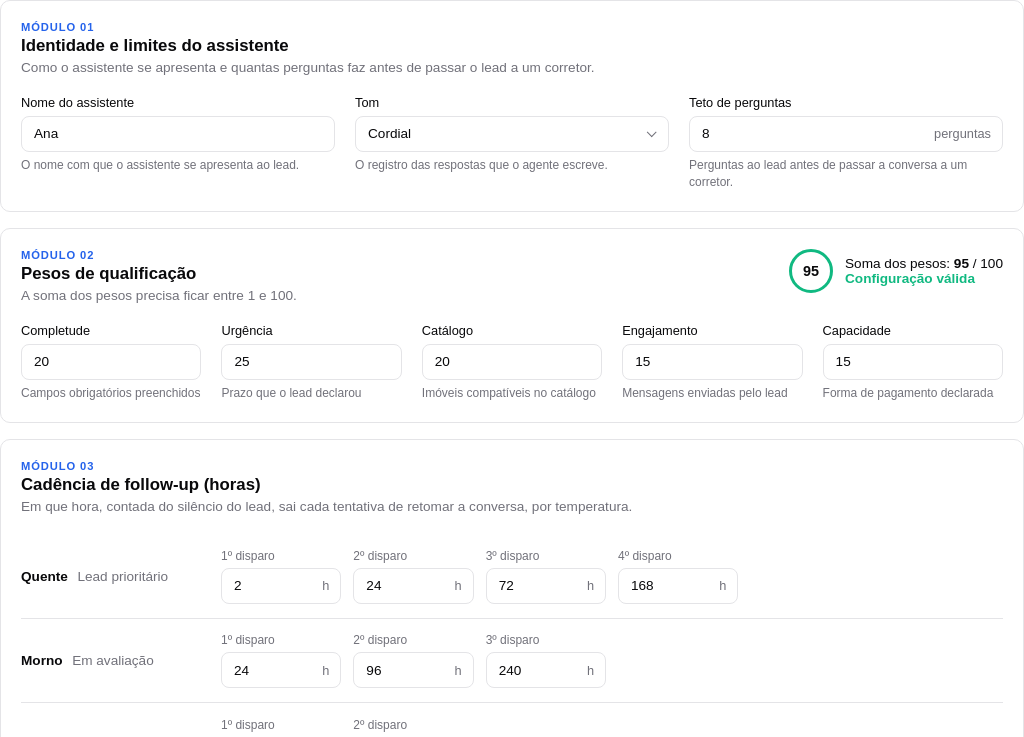
it: FormularioDeConfiguracao › a soma dos pesos (TEC-396, D2) › acompanha a digitacao e compara com `limites.pesos.somaMaxima`
Expected: the text "Configuração válida" is shown, 845,271 -> 975,286
Step 1. Replace the text in the number field named "Peso de urgência" with "35" → (312,362), box 221,344 -> 402,380
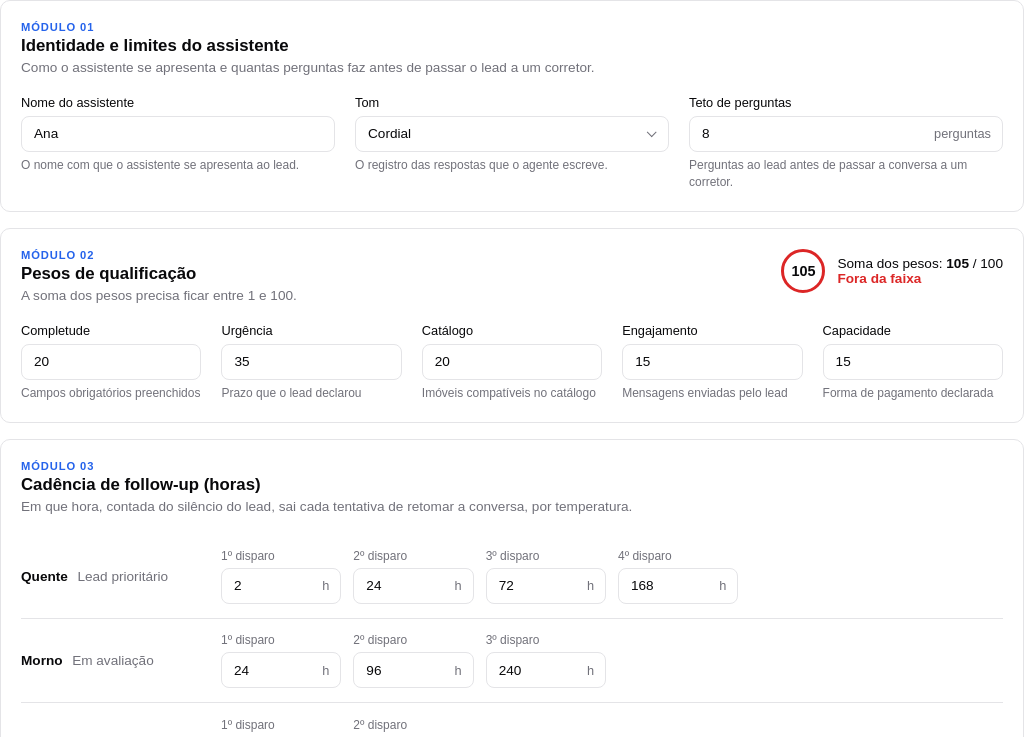
Expected: the text "105" next to "Soma dos pesos:" is shown, 946,256 -> 969,271
Expected: the text "Fora da faixa" is shown, 838,271 -> 921,286
